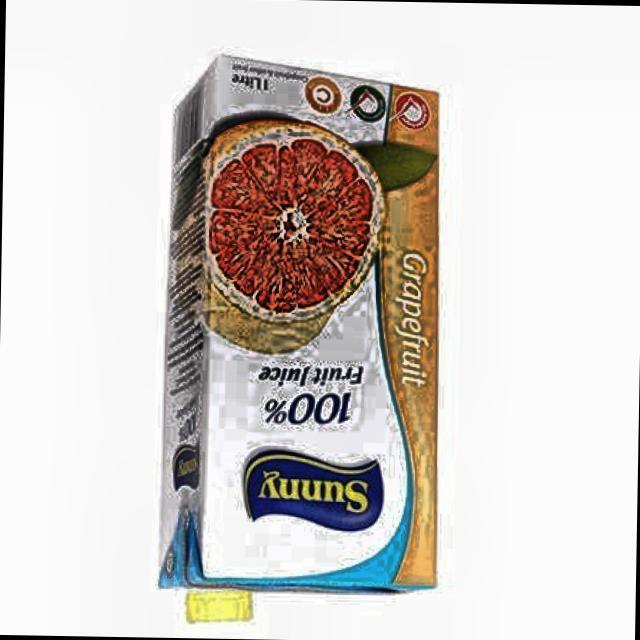cardboard: (156, 53, 448, 618)
